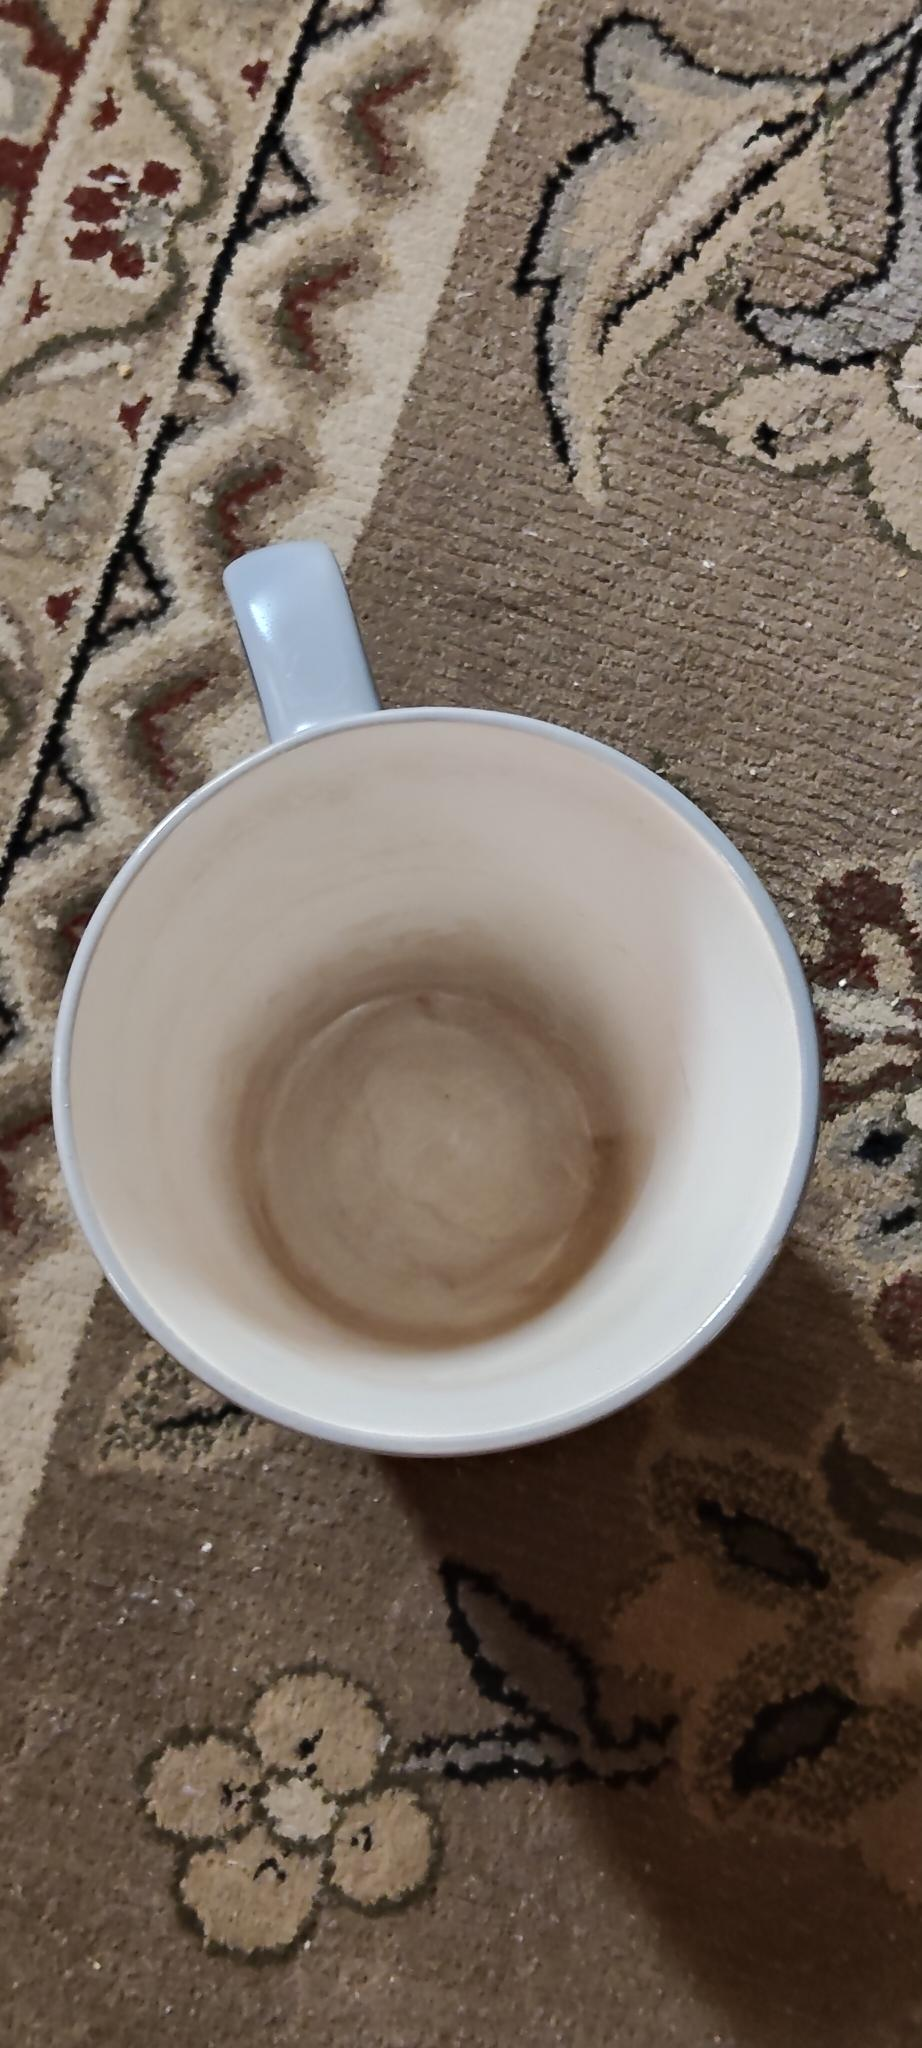Mug: (55, 536, 827, 1452)
